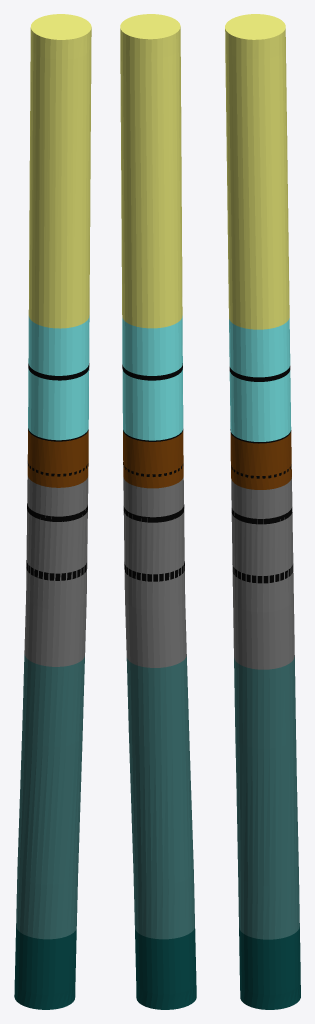
3 renders of one model, left to right at view 1: azimuth 30°, elevation 25°; view 2: azimuth 210°, elevation 25°; view 3: azimuth 270°, elevation 25°, orthographic.
Visible parts, largest first — view 1: g_0, g_4, g_3, g_1, g_5, g_2, g_10, g_9, g_6; view 2: g_0, g_4, g_3, g_1, g_5, g_2, g_10, g_9, g_6; view 3: g_0, g_4, g_3, g_1, g_5, g_2, g_10, g_9, g_6.
Part boxes in pixels (x1,y1,x2,y2): g_0: (28, 14, 91, 328); g_4: (16, 654, 84, 939); g_3: (24, 476, 88, 666); g_1: (28, 315, 89, 440); g_5: (14, 925, 76, 1009); g_2: (27, 430, 88, 487); g_10: (26, 560, 86, 580); g_9: (27, 503, 87, 521); g_6: (28, 363, 89, 380); g_0: (120, 14, 182, 328); g_4: (126, 656, 194, 939); g_3: (123, 477, 186, 667); g_1: (122, 316, 183, 440); g_5: (135, 928, 196, 1009); g_2: (123, 431, 183, 488); g_10: (124, 561, 184, 581); g_9: (123, 504, 184, 522); g_6: (122, 363, 182, 380); g_0: (225, 14, 289, 329); g_4: (234, 656, 299, 939); g_3: (231, 477, 294, 669); g_1: (229, 318, 291, 441); g_5: (239, 926, 300, 1009); g_2: (230, 431, 291, 489); g_10: (232, 563, 293, 583); g_9: (231, 507, 292, 524); g_6: (229, 366, 290, 381).
Bounding box in the file's own units: 23.27 × 353 × 24.89.
